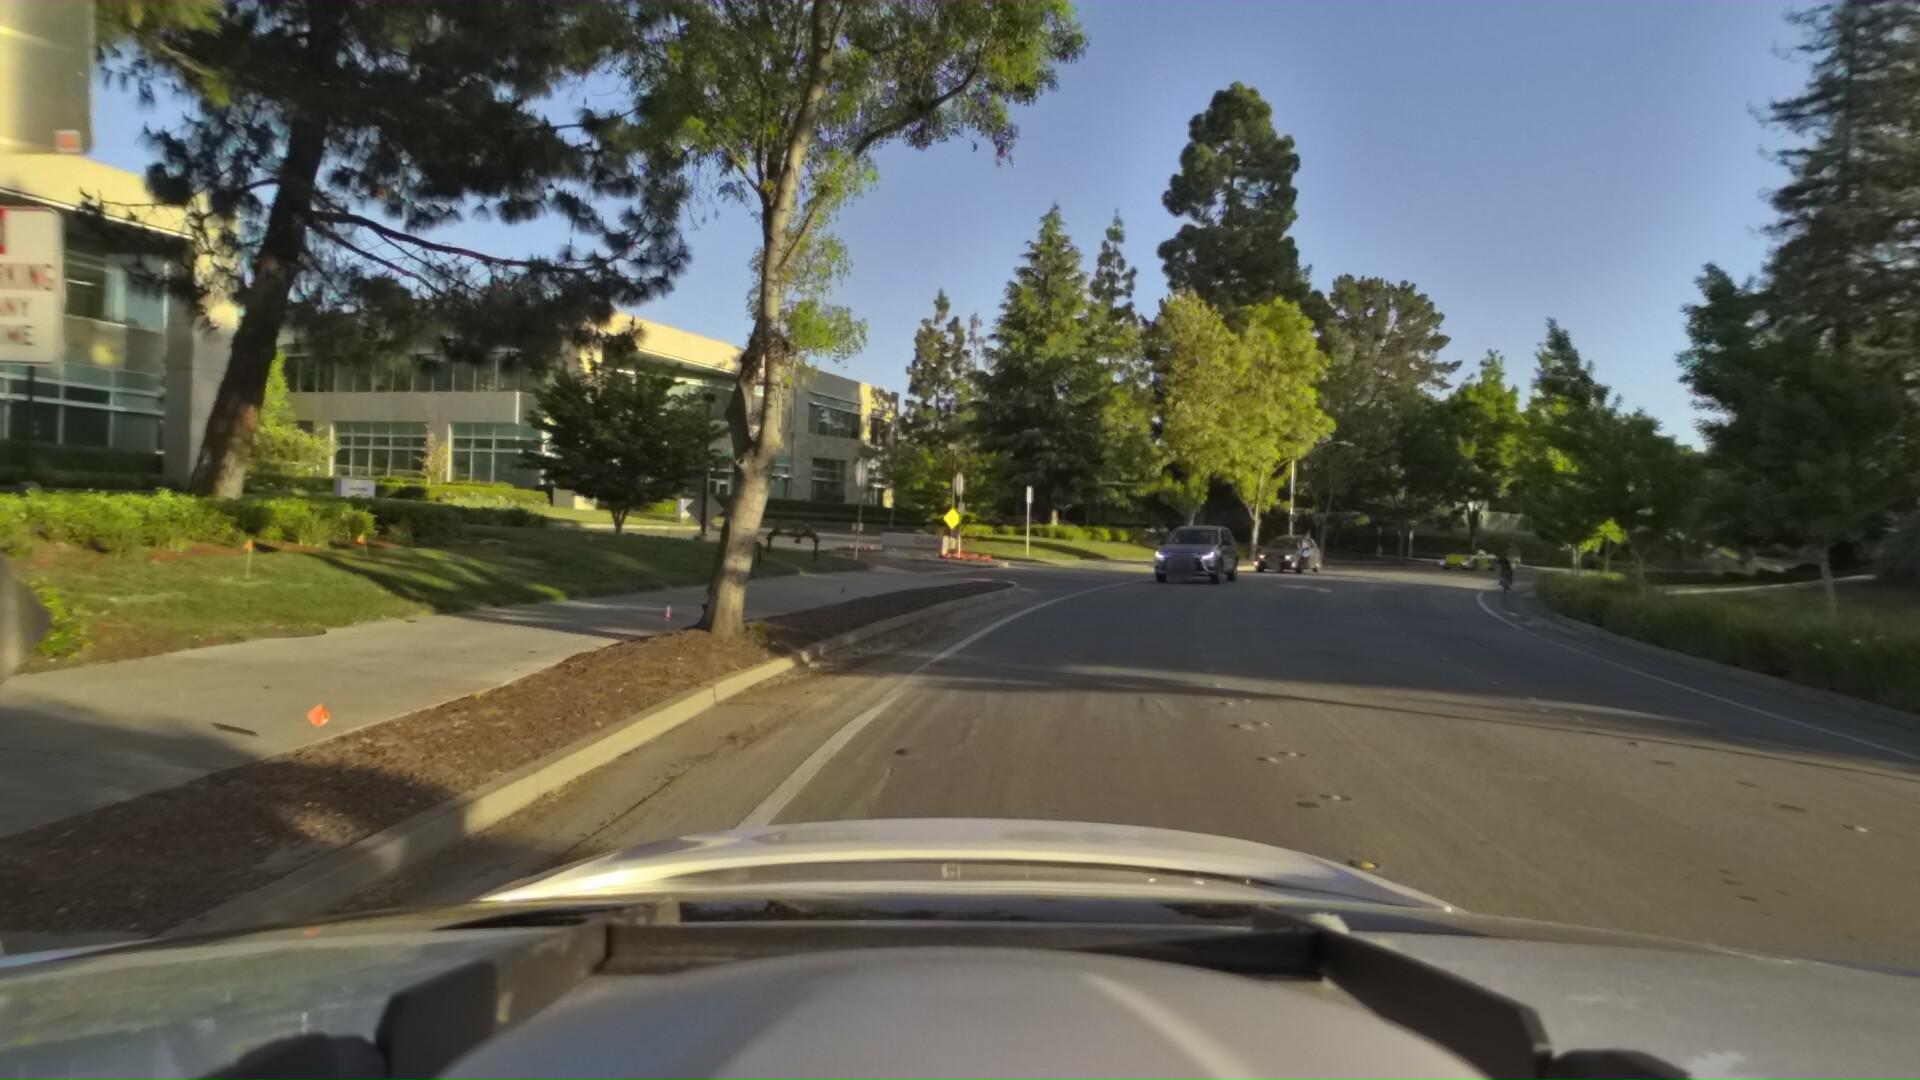bicycle: (1490, 533, 1526, 593), (1578, 542, 1609, 579)
car: (1145, 514, 1245, 584), (1247, 525, 1329, 574), (1428, 541, 1502, 568)
